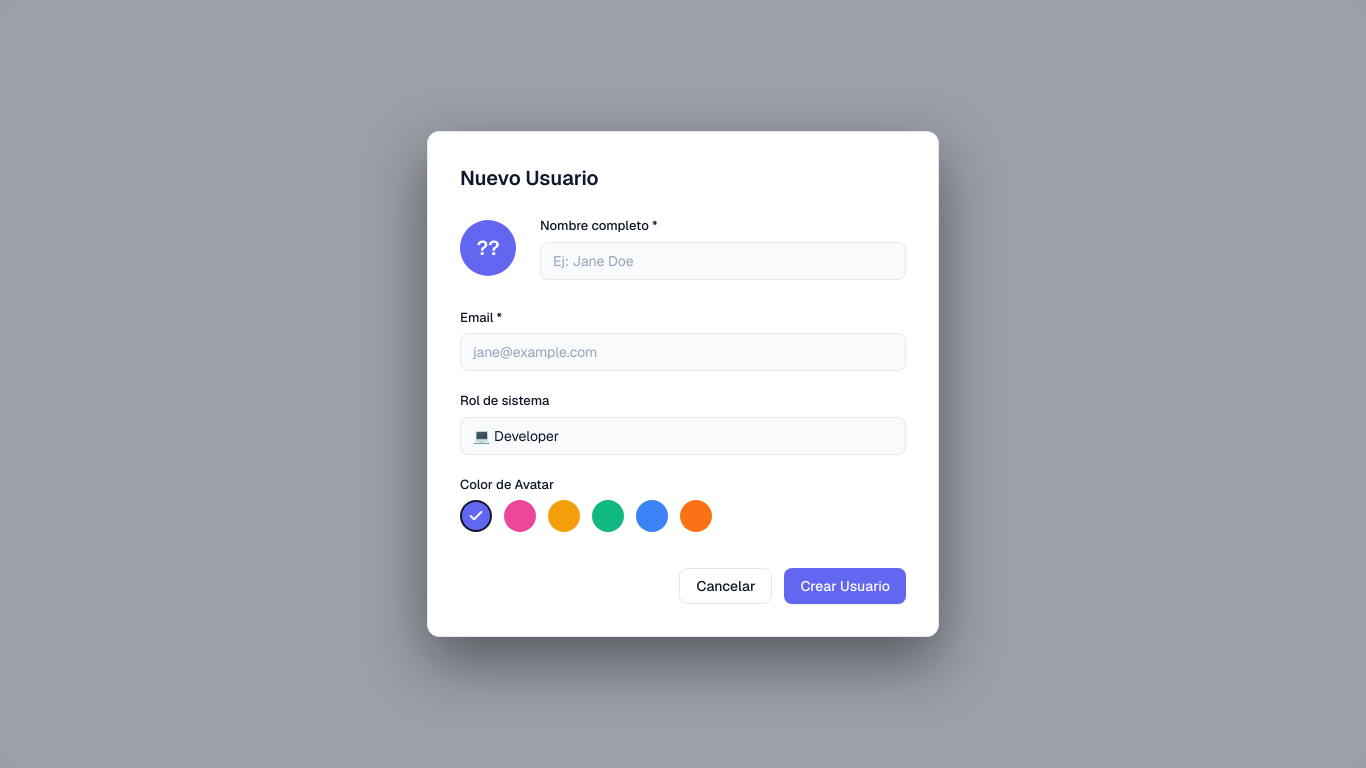
Scenario: UserFormModal › muestra error de validación cuando email está vacío al submit
This screenshot has width=1366, height=768.
In the field with placeholder "Ej: Jane Doe": coordinates (723, 260) top-left (540, 242), bottom-right (906, 280), type "Test Name"
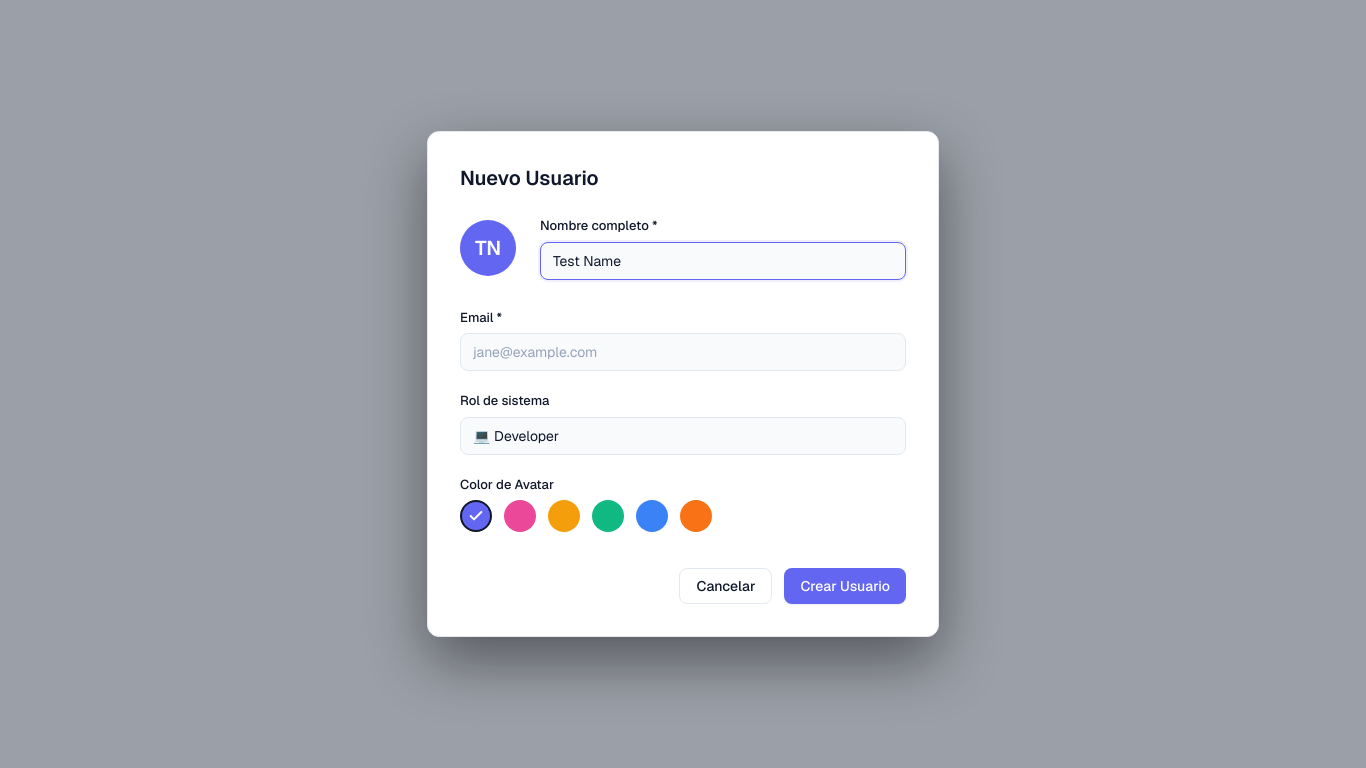
Click the button "Crear Usuario": coordinates (845, 586) top-left (784, 568), bottom-right (906, 604)
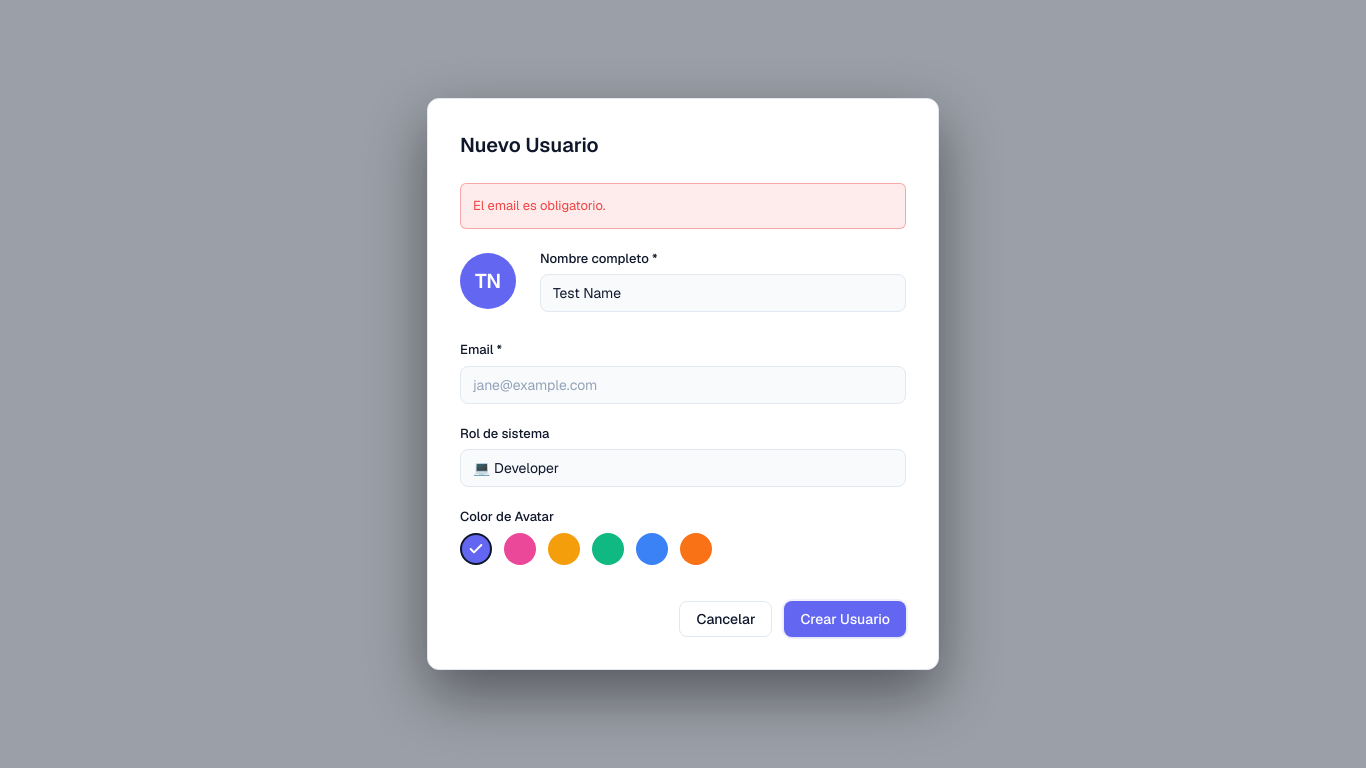
Expected: the text "El email es obligatorio." is shown, top-left (460, 183), bottom-right (906, 229)
